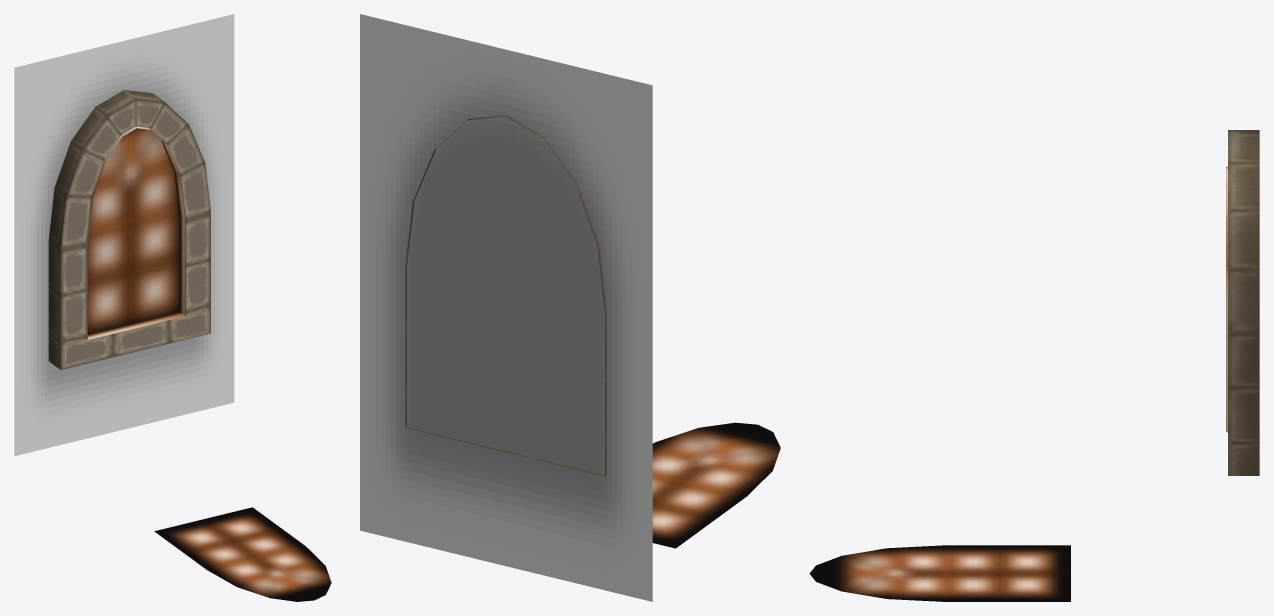
File: Church window1.fbx
3 renders of one model, left to right at view 1: azimuth 30°, elevation 25°; view 2: azimuth 150°, elevation 25°; view 3: azimuth 270°, elevation 25°, orthographic. The views are drawn at different scales.
Parts seen in each view (by area): view 1: shadow, add, Church_window; view 2: shadow, add, Church_window; view 3: add, Church_window.
Boxes of the visible parts, left/top/right/bottom form: shadow: left=14, top=14, right=234, bottom=456; add: left=86, top=126, right=331, bottom=601; Church_window: left=48, top=90, right=210, bottom=369; shadow: left=360, top=14, right=652, bottom=601; add: left=652, top=422, right=780, bottom=548; Church_window: left=405, top=115, right=606, bottom=476; add: left=809, top=166, right=1227, bottom=601; Church_window: left=1228, top=130, right=1259, bottom=475.
Bounding box in the file's own units: 0.948 × 1.73 × 1.42.
